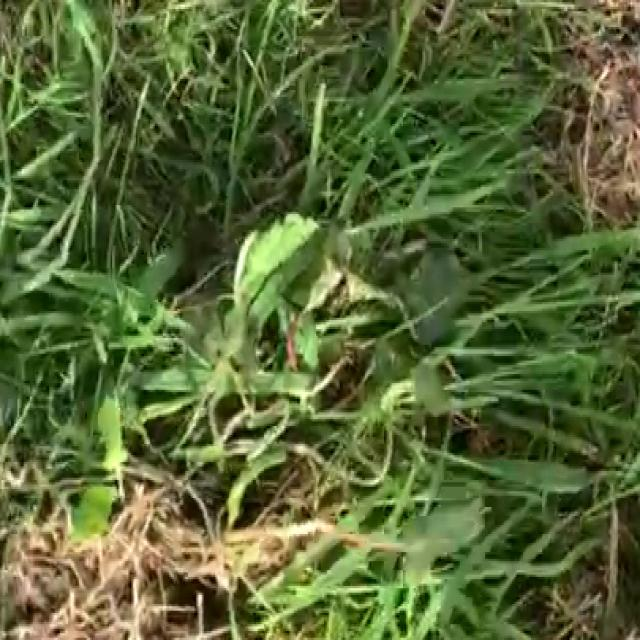organic waste: (96, 167, 520, 559)
